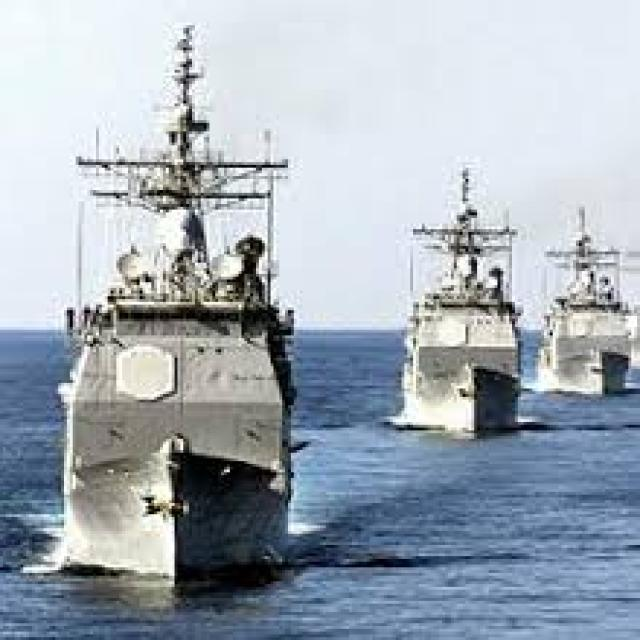navalvessels: (31, 31, 301, 572), (393, 192, 530, 438), (547, 216, 640, 396)
